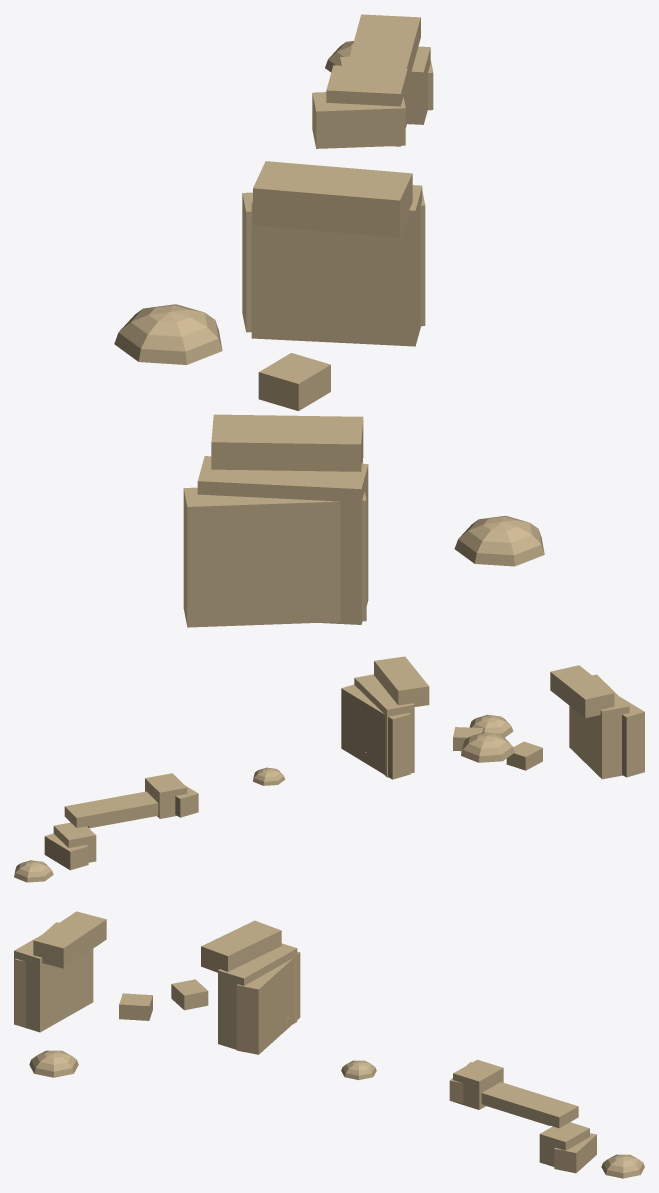
Rendered from naturalbridge_rocks.glb.
3 renders of one model, top to bottom at view 1: azimuth 30°, elevation 25°; view 2: azimuth 150°, elevation 25°; view 3: azimuth 270°, elevation 25°, orthographic. The views are drawn at different scales.
Parts seen in each view (by area): view 1: naturalbridge_rocks_lod0; view 2: naturalbridge_rocks_lod0; view 3: naturalbridge_rocks_lod0.
Part boxes in pixels (x1,y1,x2,y2): naturalbridge_rocks_lod0: (114, 14, 544, 627); naturalbridge_rocks_lod0: (14, 656, 644, 882); naturalbridge_rocks_lod0: (14, 911, 644, 1178).
Size of what is drawn, in the model's own units: 45.41 by 14.53 by 62.09.
